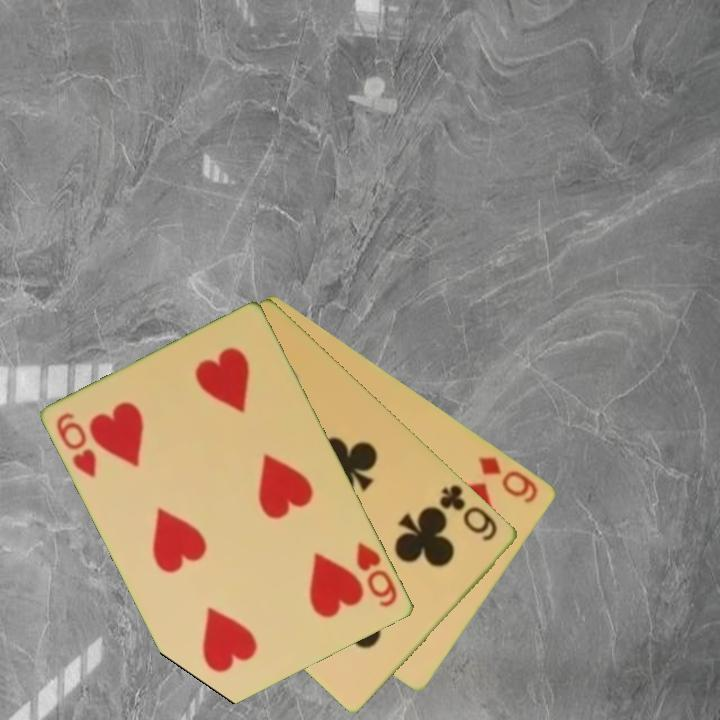6c: (436, 480, 501, 544)
6d: (475, 453, 542, 506)
6h: (353, 538, 401, 611), (53, 409, 101, 481)
